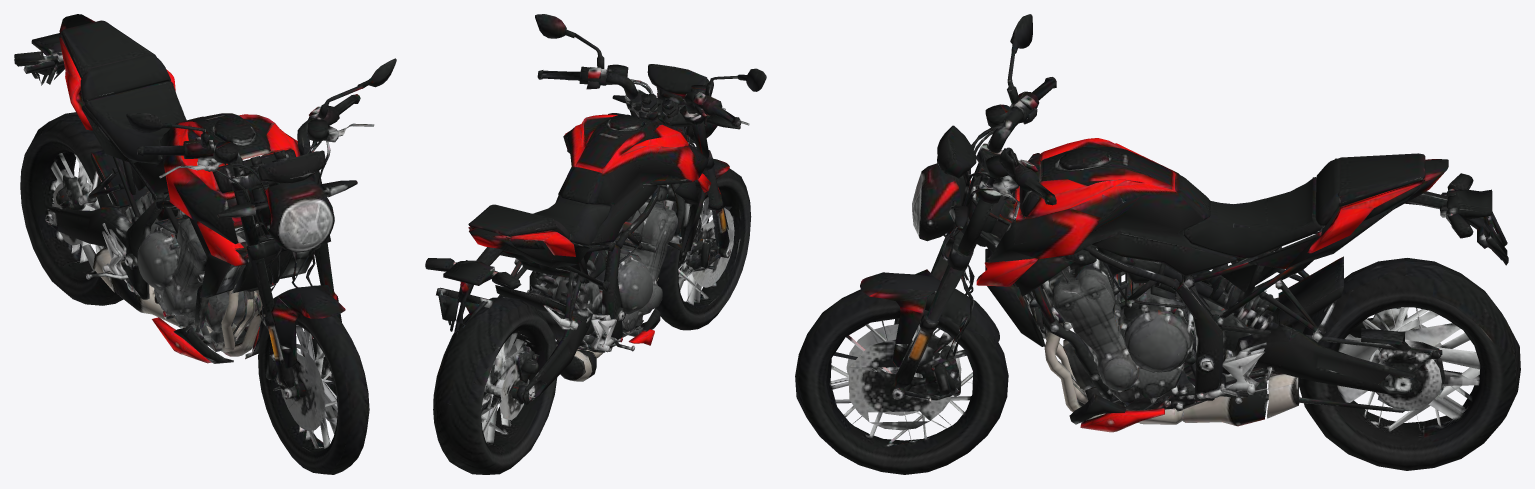
The model's file is moto_650.glb.
The picture shows the model from 3 angles, left to right: view 1: azimuth 30°, elevation 25°; view 2: azimuth 150°, elevation 25°; view 3: azimuth 270°, elevation 25°; orthographic projection. The views are drawn at different scales.
Parts seen in each view (by area): view 1: corpo, roda_f, roda_t; view 2: corpo, roda_t, roda_f; view 3: corpo, roda_t, roda_f.
Boxes of the visible parts, box(x1,y1,x2,y2) form: corpo: box(14, 14, 396, 363); roda_f: box(256, 285, 369, 474); roda_t: box(20, 112, 123, 305); corpo: box(425, 14, 766, 473); roda_t: box(433, 285, 579, 474); roda_f: box(656, 170, 751, 330); corpo: box(840, 14, 1520, 432); roda_t: box(1297, 256, 1520, 470); roda_f: box(795, 291, 1008, 474).
Size of the model in its own units: 0.9935 by 1.26 by 2.12.
Materials: 1 (1 with a texture image).
